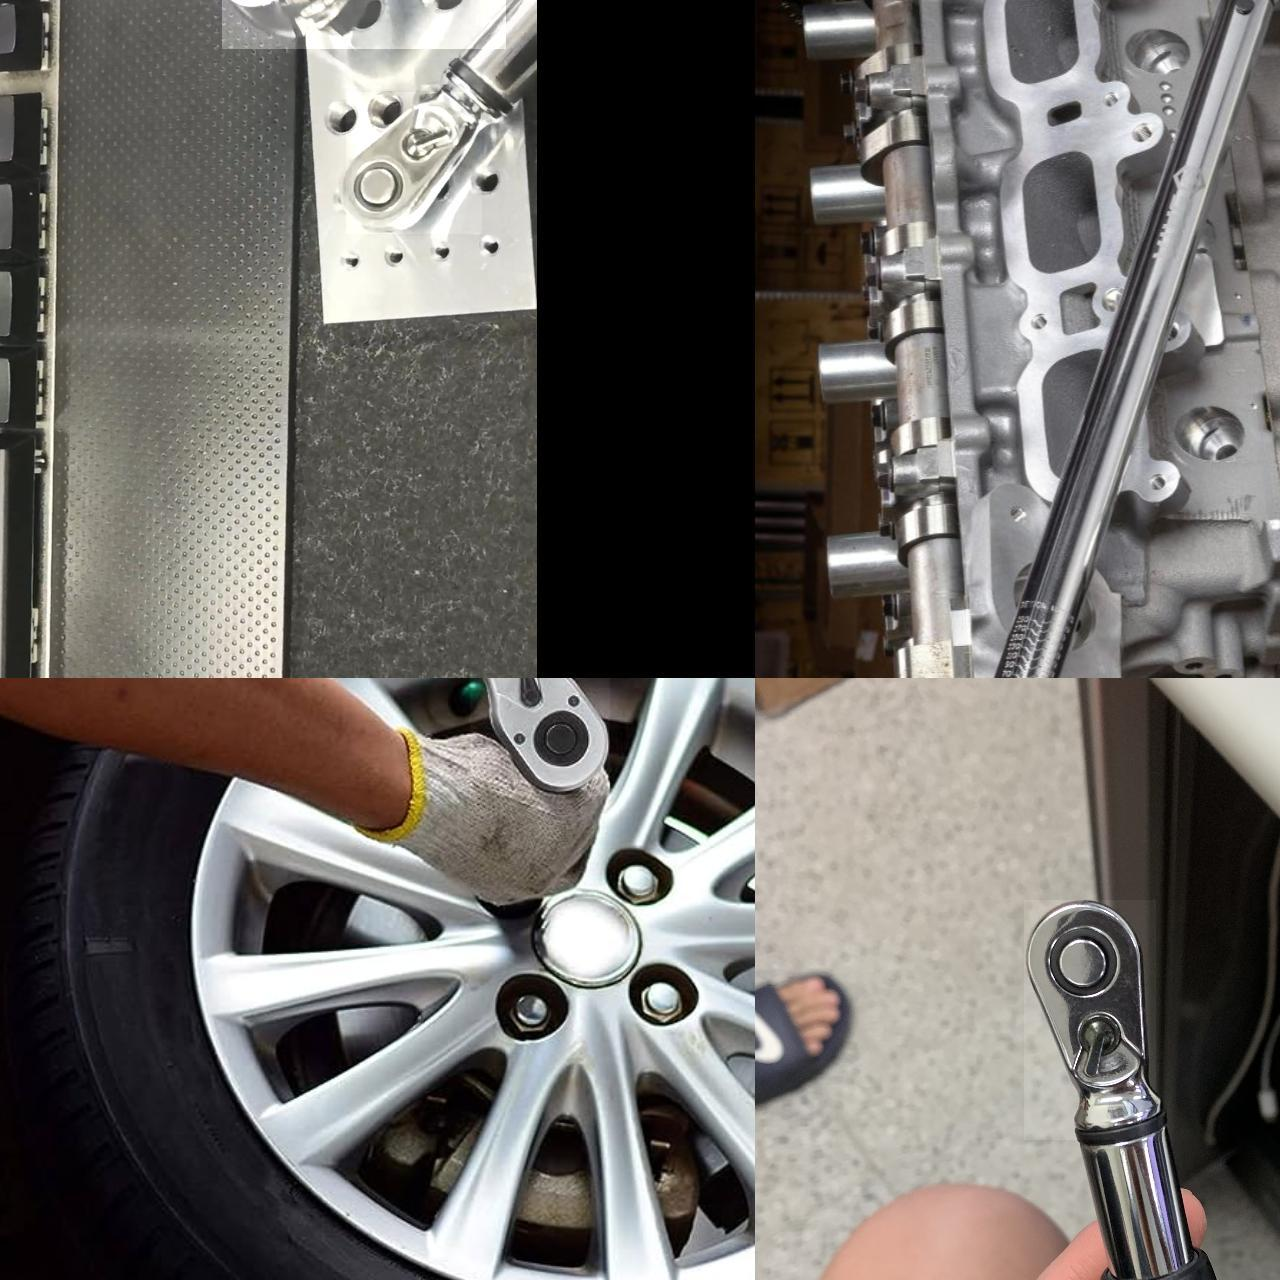Tool: (1024, 899, 1156, 1139), (346, 91, 482, 233), (470, 678, 610, 795), (222, 0, 506, 48)
